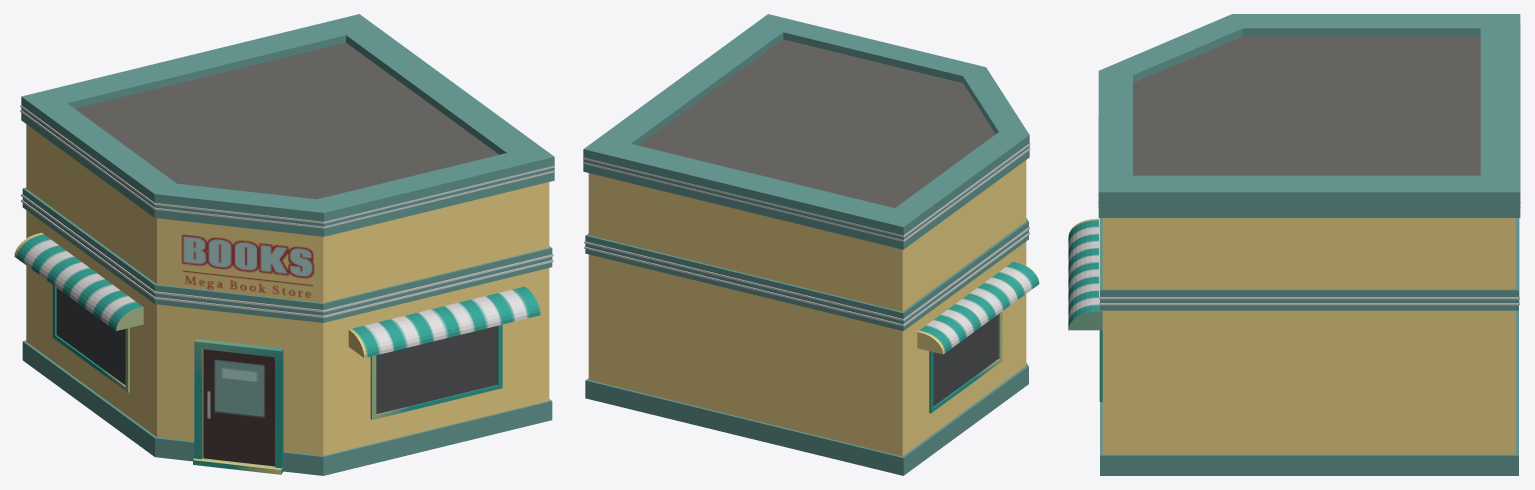
Rendered from Building_Books Shop.fbx.
3 views of the same model, side by side, from view 1: azimuth 30°, elevation 25°; view 2: azimuth 150°, elevation 25°; view 3: azimuth 270°, elevation 25° (orthographic). The views are drawn at different scales.
Visible parts, largest first — view 1: Building_Books Shop; view 2: Building_Books Shop; view 3: Building_Books Shop.
Boxes of the visible parts, left/top/right/bottom form: Building_Books Shop: left=14, top=14, right=554, bottom=475; Building_Books Shop: left=583, top=14, right=1039, bottom=475; Building_Books Shop: left=1068, top=14, right=1520, bottom=475.
Bounding box in the file's own units: 1204 × 836 × 1204.
